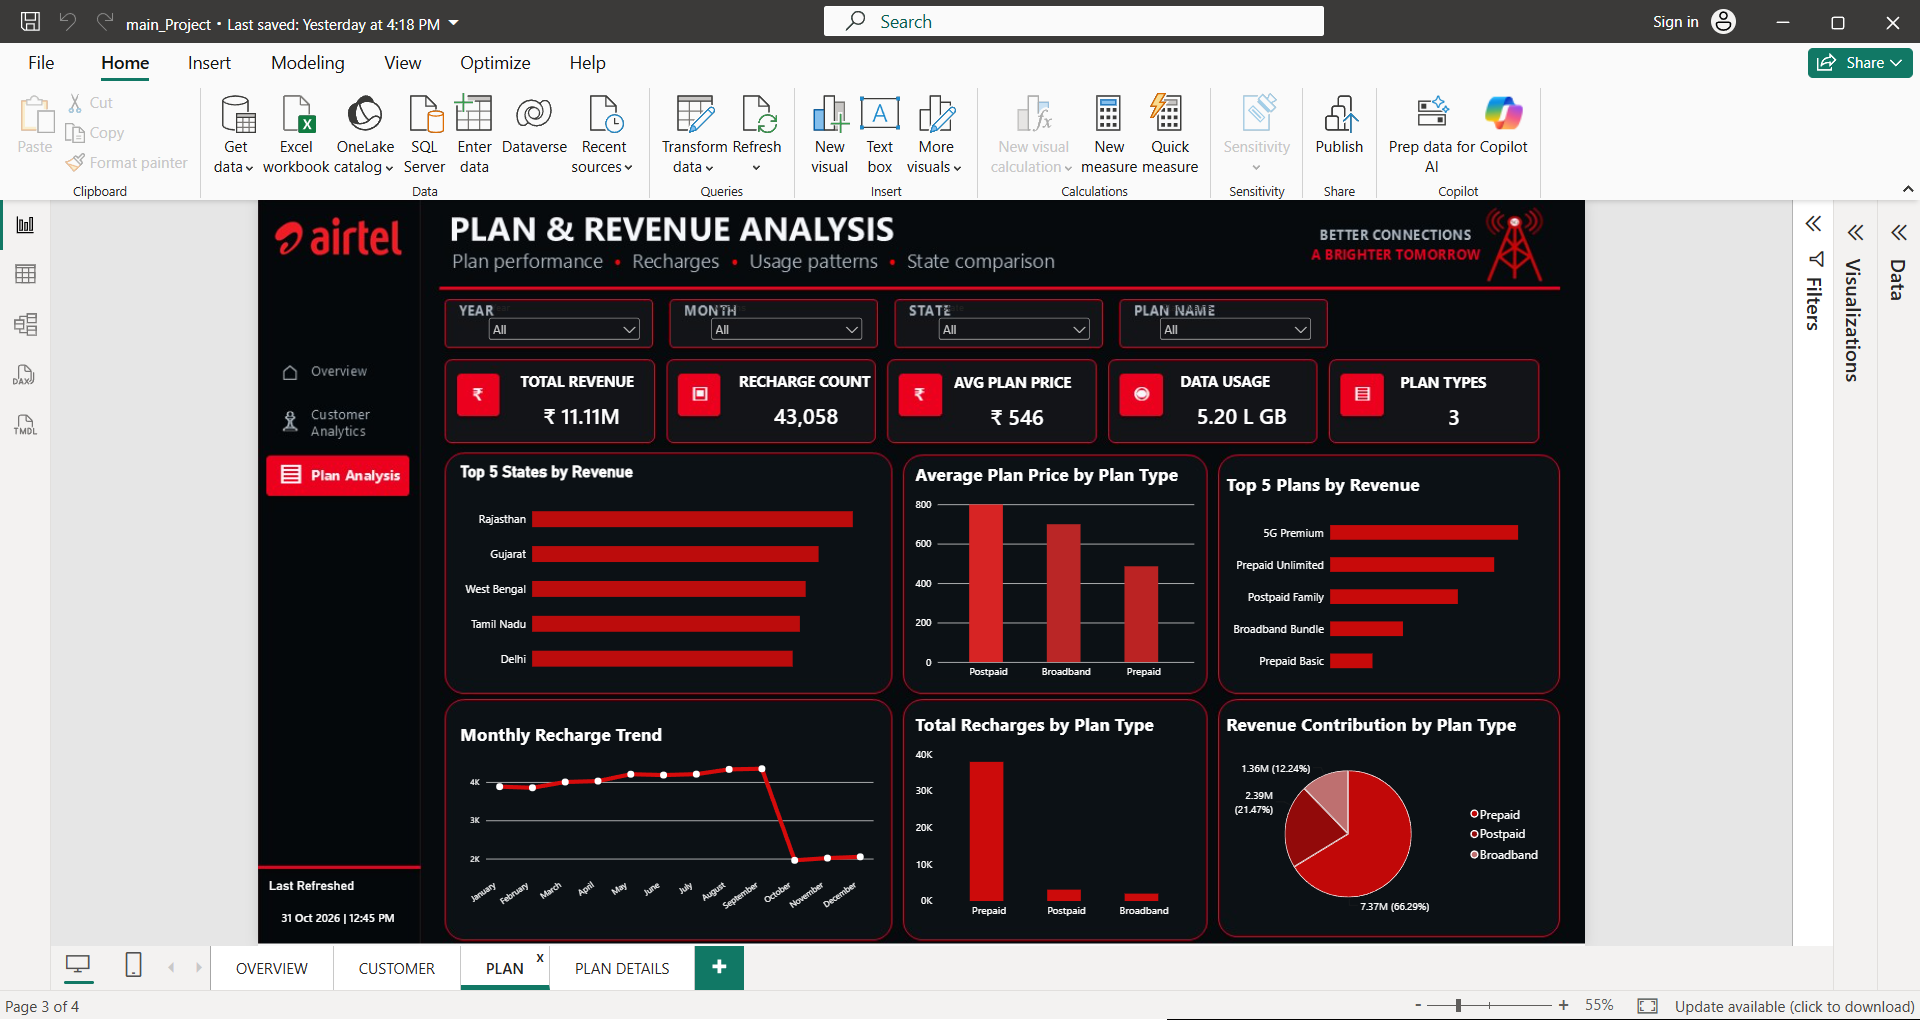

What the dashboard file says about the page in this screenshot:
{"tool":"powerbi","page":{"name":"PLAN","canvas":[1920,1080],"ordinal":2},"visuals":[{"type":"slicer","fields":{"Values":["date.Year"]},"box":[330,146,228,78],"z":0},{"type":"slicer","fields":{"Values":["date.Months"]},"box":[652,146,228,78],"z":1000},{"type":"slicer","fields":{"Values":["customer_analy.State"]},"box":[980,146,228,78],"z":2000},{"type":"slicer","fields":{"Values":["Monthly_Revenue.Plan_Name"]},"box":[1302,146,228,78],"z":3000},{"type":"card","title":"TOTAL REVENUE","fields":{"Values":["calculated_table.total_revenue"]},"box":[363.3,233.3,210,115],"z":4000},{"type":"card","title":"DATA USAGE","fields":{"Values":["calculated_table.data_usage_display"]},"box":[1320,234,210,114],"z":5000},{"type":"card","title":"AVG PLAN PRICE","fields":{"Values":["calculated_table.avg_plan_price"]},"box":[992,236,215,115],"z":6000},{"type":"card","title":"RECHARGE COUNT","fields":{"Values":["calculated_table.total_recharges"]},"box":[680,234,226,116],"z":7000},{"type":"card","title":"PLAN TYPES","fields":{"Values":["Count(Monthly_Revenue.Plan_Type)"]},"box":[1638,236,188,116],"z":8000},{"type":"clusteredBarChart","title":"Top 5 Plans by Revenue","fields":{"Category":["Monthly_Revenue.Plan_Name"],"Y":["Sum(Monthly_Revenue.Revenue_INR)"]},"box":[1386,380,492,334],"z":9000},{"type":"lineChart","title":"Monthly Recharge Trend","fields":{"Category":["date.date.Variation.Date Hierarchy.Month"],"Y":["Sum(Monthly_Revenue.Recharge_Count)"]},"box":[276,742,630,318],"z":10000},{"type":"clusteredColumnChart","title":"Average Plan Price by Plan Type","fields":{"Category":["Monthly_Revenue.Plan_Type"],"Y":["Avg(Monthly_Revenue.Monthly_Plan_Price_INR)"]},"box":[936,366,436,348],"z":11000},{"type":"clusteredBarChart","title":"Top 5 States by Revenue","fields":{"Category":["Monthly_Revenue.State"],"Y":["Sum(Monthly_Revenue.Revenue_INR)"]},"box":[276,366,660,348],"z":12000},{"type":"clusteredColumnChart","title":"Total Recharges by Plan Type","fields":{"Category":["Monthly_Revenue.Plan_Type"],"Y":["Sum(Monthly_Revenue.Recharge_Count)"]},"box":[936,728,436,332],"z":13000},{"type":"pieChart","title":"Revenue Contribution by Plan Type","fields":{"Category":["Monthly_Revenue.Plan_Type"],"Y":["Sum(Monthly_Revenue.Revenue_INR)"]},"box":[1386,728,492,332],"z":14000},{"type":"card","title":"Last Refreshed","fields":{"Values":["calculated_table.Last Refreshed"]},"box":[0,968,232,112],"z":15000}]}

Visuals, with their boxes on the page's 1920x1080 design canvas (x1, y1, x2, y2). These are canvas units, not pixel positions in the 1920x1020 screenshot, which may show the page scaled, cropped or inside an application window:
slicer - date.Year: (x1=330, y1=146, x2=558, y2=224)
slicer - date.Months: (x1=652, y1=146, x2=880, y2=224)
slicer - customer_analy.State: (x1=980, y1=146, x2=1208, y2=224)
slicer - Monthly_Revenue.Plan_Name: (x1=1302, y1=146, x2=1530, y2=224)
"TOTAL REVENUE" card: (x1=363, y1=233, x2=573, y2=348)
"DATA USAGE" card: (x1=1320, y1=234, x2=1530, y2=348)
"AVG PLAN PRICE" card: (x1=992, y1=236, x2=1207, y2=351)
"RECHARGE COUNT" card: (x1=680, y1=234, x2=906, y2=350)
"PLAN TYPES" card: (x1=1638, y1=236, x2=1826, y2=352)
"Top 5 Plans by Revenue" clusteredBarChart: (x1=1386, y1=380, x2=1878, y2=714)
"Monthly Recharge Trend" lineChart: (x1=276, y1=742, x2=906, y2=1060)
"Average Plan Price by Plan Type" clusteredColumnChart: (x1=936, y1=366, x2=1372, y2=714)
"Top 5 States by Revenue" clusteredBarChart: (x1=276, y1=366, x2=936, y2=714)
"Total Recharges by Plan Type" clusteredColumnChart: (x1=936, y1=728, x2=1372, y2=1060)
"Revenue Contribution by Plan Type" pieChart: (x1=1386, y1=728, x2=1878, y2=1060)
"Last Refreshed" card: (x1=0, y1=968, x2=232, y2=1080)
